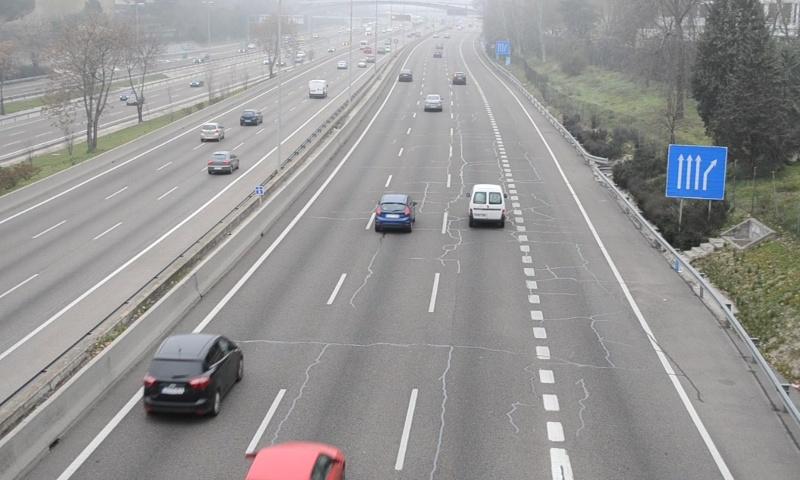car: (143, 334, 241, 416), (375, 194, 412, 232), (423, 94, 443, 112), (452, 71, 467, 86), (398, 68, 414, 82)
van: (469, 183, 505, 226)
